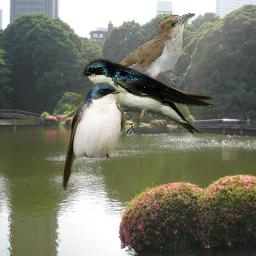Cuckoo: (60, 13, 196, 121)
Swallow: (81, 58, 219, 140), (62, 78, 127, 191)
